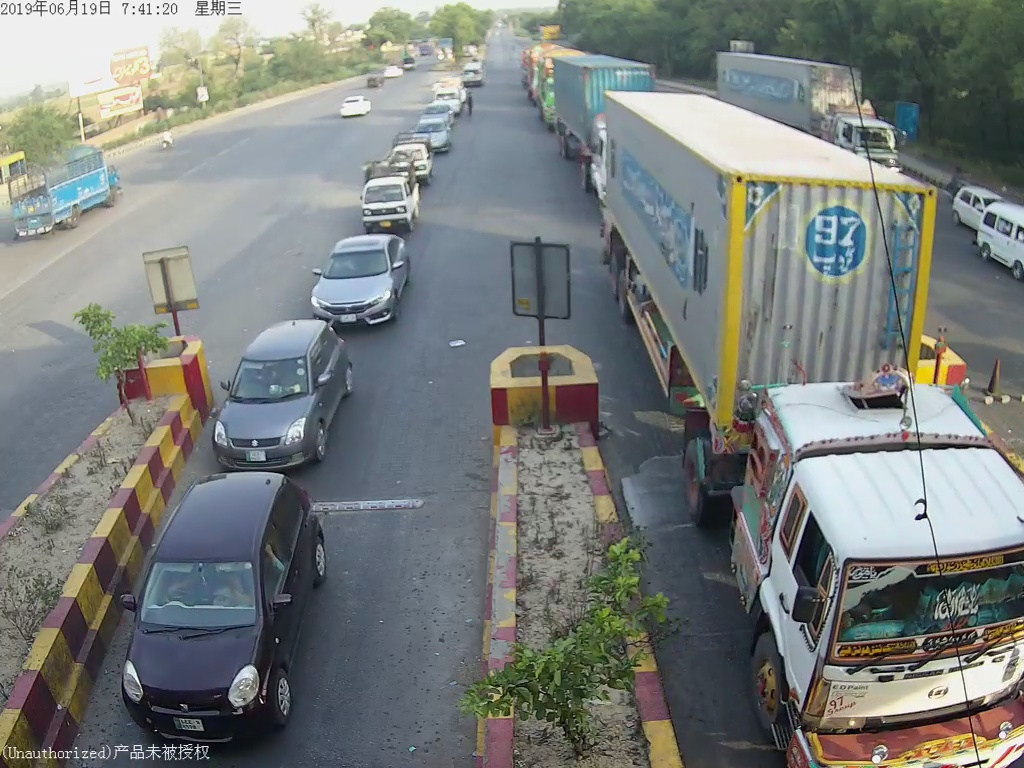Cat-1: (128, 466, 333, 736), (211, 320, 351, 458), (304, 236, 412, 320)
Cat-5: (599, 85, 1021, 768)
